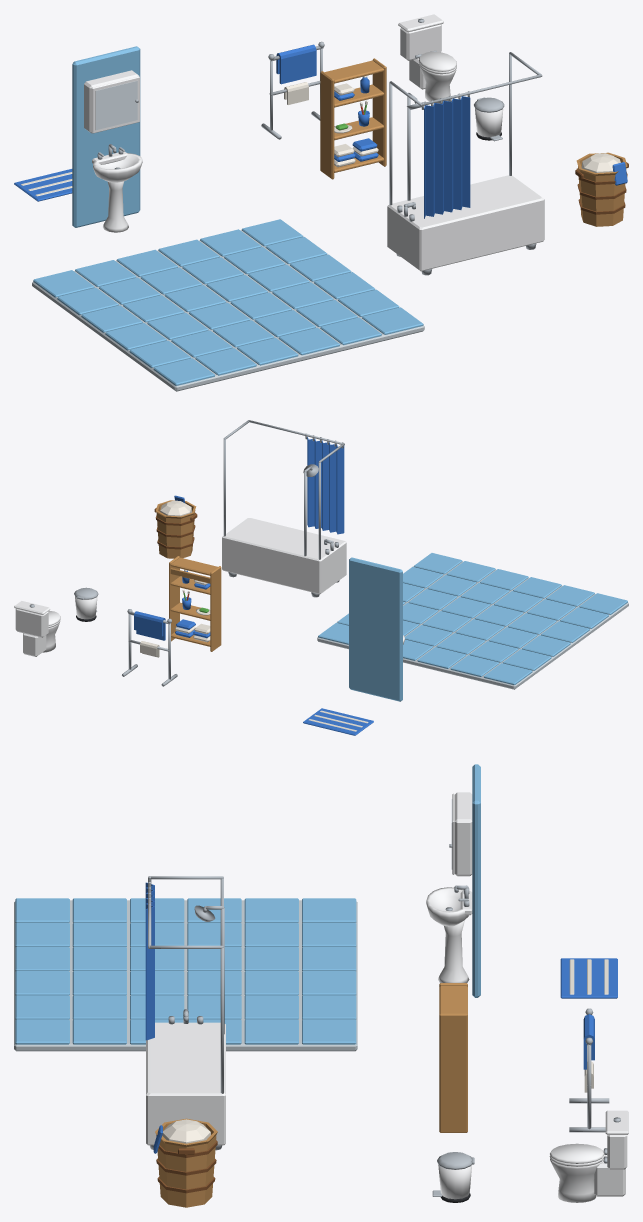
Rendered from low-poly-bathroom-set.glb.
3 renders of one model, top to bottom at view 1: azimuth 30°, elevation 25°; view 2: azimuth 150°, elevation 25°; view 3: azimuth 270°, elevation 25°, orthographic. The views are drawn at different scales.
Visible parts, largest first — view 1: FloorTiles_Body, Bathtub_Body, Sink_Body, Shelf_Body, ShowerCurtain, LaundryBasket_Body, Toilet_Body, Towels, Cabinet_Mirror, BathMat_Body, Bin_Body, TowelRack_Frame (+2 smaller); view 2: FloorTiles_Body, Bathtub_Body, Sink_Body, Shelf_Body, ShowerCurtain, LaundryBasket_Body, Toilet_Body, BathMat_Body, Towels, TowelRack_Frame, Bin_Body; view 3: FloorTiles_Body, Bathtub_Body, Sink_Body, LaundryBasket_Body, Shelf_Body, Toilet_Body, BathMat_Body, ShowerCurtain, Bin_Body, TowelRack_Frame, ToiletLid, Towels.
Boxes of the visible parts, left/top/right/bottom form: FloorTiles_Body: left=32, top=219, right=424, bottom=391; Bathtub_Body: left=387, top=52, right=544, bottom=275; Sink_Body: left=72, top=46, right=142, bottom=232; Shelf_Body: left=320, top=58, right=386, bottom=179; ShowerCurtain: left=424, top=96, right=470, bottom=218; LaundryBasket_Body: left=575, top=152, right=628, bottom=226; Toilet_Body: left=398, top=14, right=456, bottom=103; Towels: left=276, top=44, right=316, bottom=104; Cabinet_Mirror: left=95, top=80, right=138, bottom=130; BathMat_Body: left=14, top=169, right=72, bottom=201; Bin_Body: left=475, top=97, right=503, bottom=141; TowelRack_Frame: left=261, top=41, right=324, bottom=139; FloorTiles_Body: left=317, top=553, right=628, bottom=689; Bathtub_Body: left=222, top=420, right=346, bottom=597; Sink_Body: left=349, top=557, right=404, bottom=701; Shelf_Body: left=169, top=556, right=221, bottom=651; ShowerCurtain: left=307, top=437, right=344, bottom=534; LaundryBasket_Body: left=154, top=495, right=197, bottom=558; Toilet_Body: left=14, top=601, right=59, bottom=656; BathMat_Body: left=303, top=708, right=373, bottom=735; Towels: left=134, top=611, right=165, bottom=657; TowelRack_Frame: left=122, top=609, right=177, bottom=686; Bin_Body: left=75, top=596, right=97, bottom=621; FloorTiles_Body: left=14, top=898, right=357, bottom=1051; Bathtub_Body: left=146, top=876, right=225, bottom=1150; Sink_Body: left=426, top=764, right=480, bottom=997; LaundryBasket_Body: left=153, top=1118, right=217, bottom=1207; Shelf_Body: left=439, top=983, right=467, bottom=1132; Toilet_Body: left=550, top=1110, right=628, bottom=1202; BathMat_Body: left=560, top=958, right=617, bottom=998; ShowerCurtain: left=145, top=882, right=154, bottom=1040; Bin_Body: left=432, top=1157, right=474, bottom=1202; TowelRack_Frame: left=569, top=1008, right=609, bottom=1132; ToiletLid: left=550, top=1143, right=604, bottom=1163; Towels: left=583, top=1014, right=594, bottom=1092.
Bounding box in the file's own units: 25.08 × 7.97 × 21.47.
